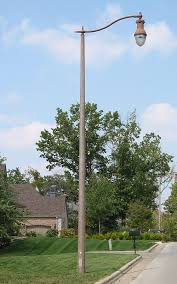light_pole: (70, 21, 97, 280)
